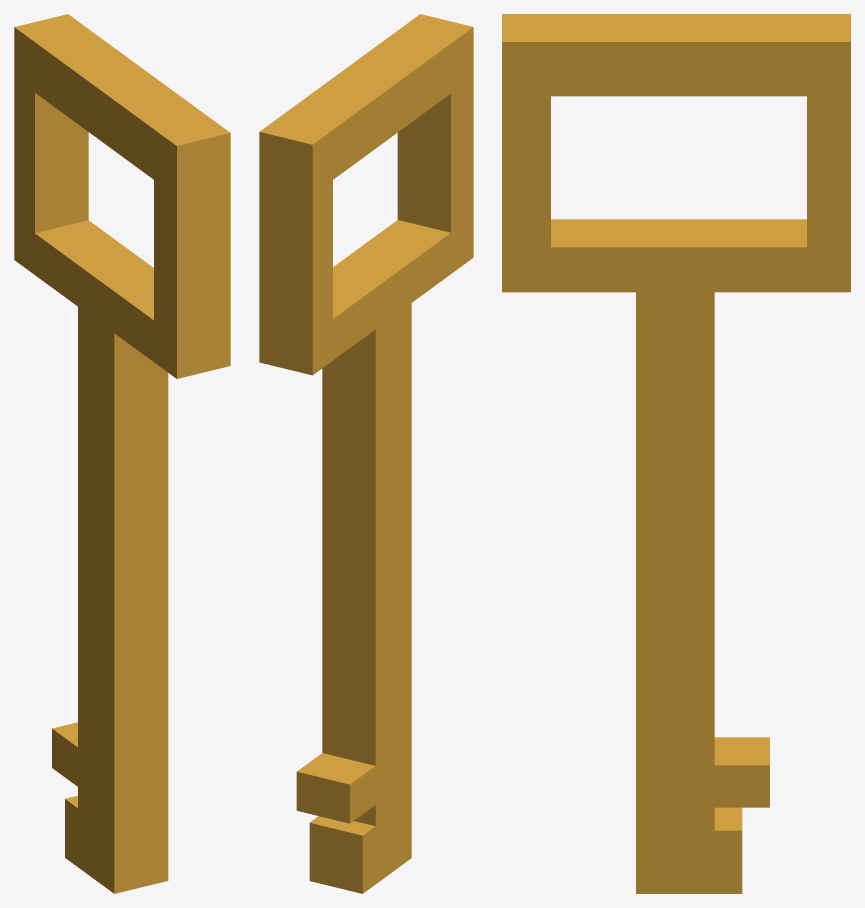
Rendered from key.fbx.
The picture shows the model from 3 angles, left to right: view 1: azimuth 30°, elevation 25°; view 2: azimuth 150°, elevation 25°; view 3: azimuth 270°, elevation 25°; orthographic projection. The views are drawn at different scales.
Visible parts, largest first — view 1: Cube; view 2: Cube; view 3: Cube.
Part boxes in pixels (box(x1,y1,x2,y2)): Cube: box(14, 14, 230, 893); Cube: box(259, 14, 473, 893); Cube: box(502, 14, 850, 893).
Size of the model in its own units: 0.4822 by 6.8 by 2.53.
